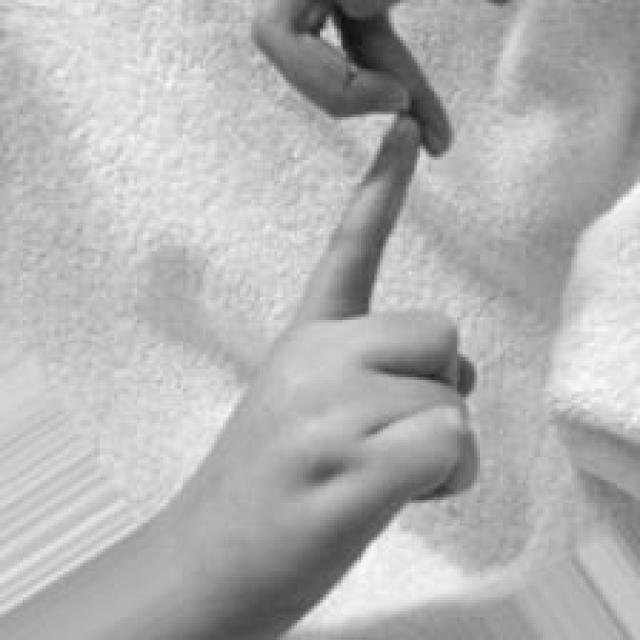R: (193, 0, 495, 639)
